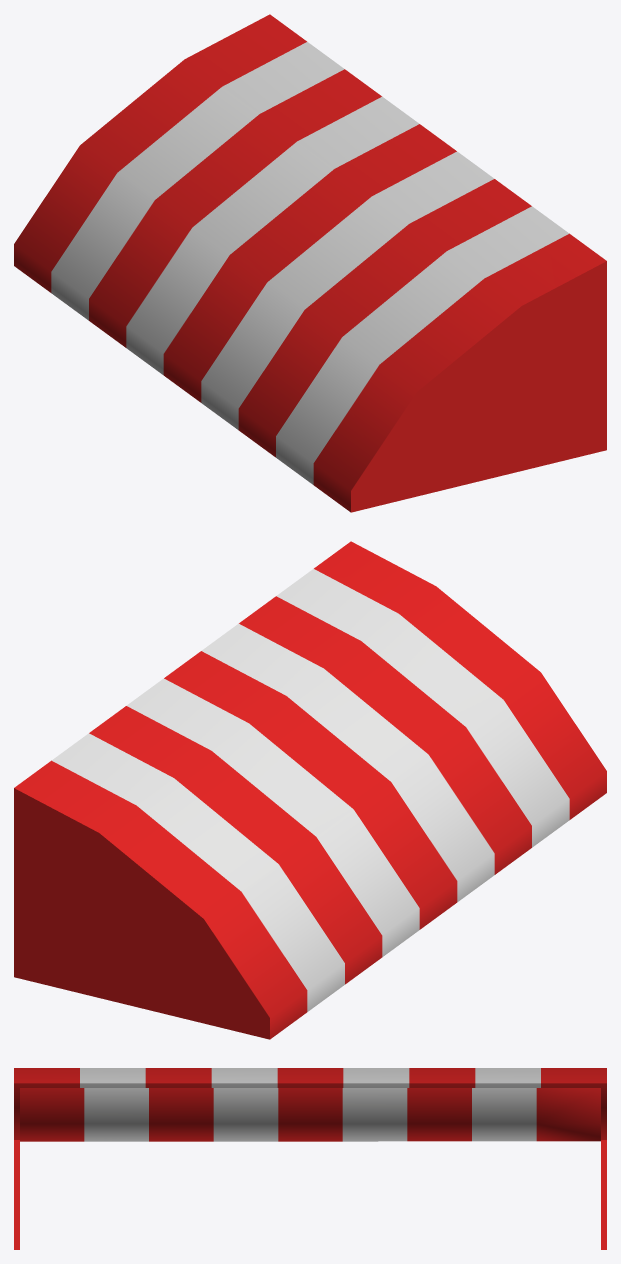
The model's file is Awning_1_C.glb.
3 renders of one model, top to bottom at view 1: azimuth 30°, elevation 25°; view 2: azimuth 150°, elevation 25°; view 3: azimuth 270°, elevation 25°, orthographic. The views are drawn at different scales.
Visible parts, largest first — view 1: Awning_1_C; view 2: Awning_1_C; view 3: Awning_1_C.
Part boxes in pixels (x1=…): Awning_1_C: x1=14, y1=14, x2=606, y2=512; Awning_1_C: x1=14, y1=541, x2=606, y2=1039; Awning_1_C: x1=14, y1=1068, x2=606, y2=1249.
Size of the model in its own units: 1.23 by 0.8657 by 2.8.
Materials: 2 (2 with a texture image).
